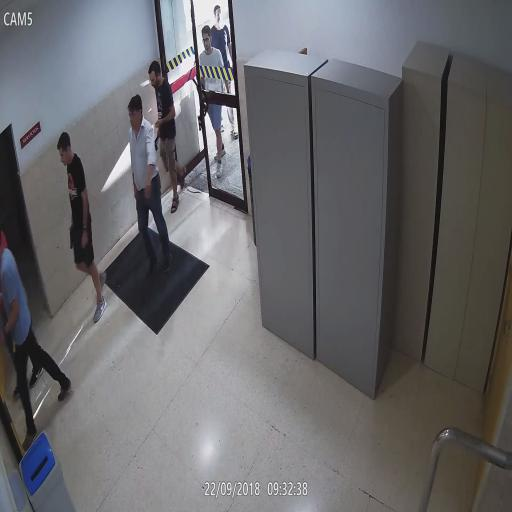Handgun: (68, 224, 76, 251), (153, 132, 161, 150)
